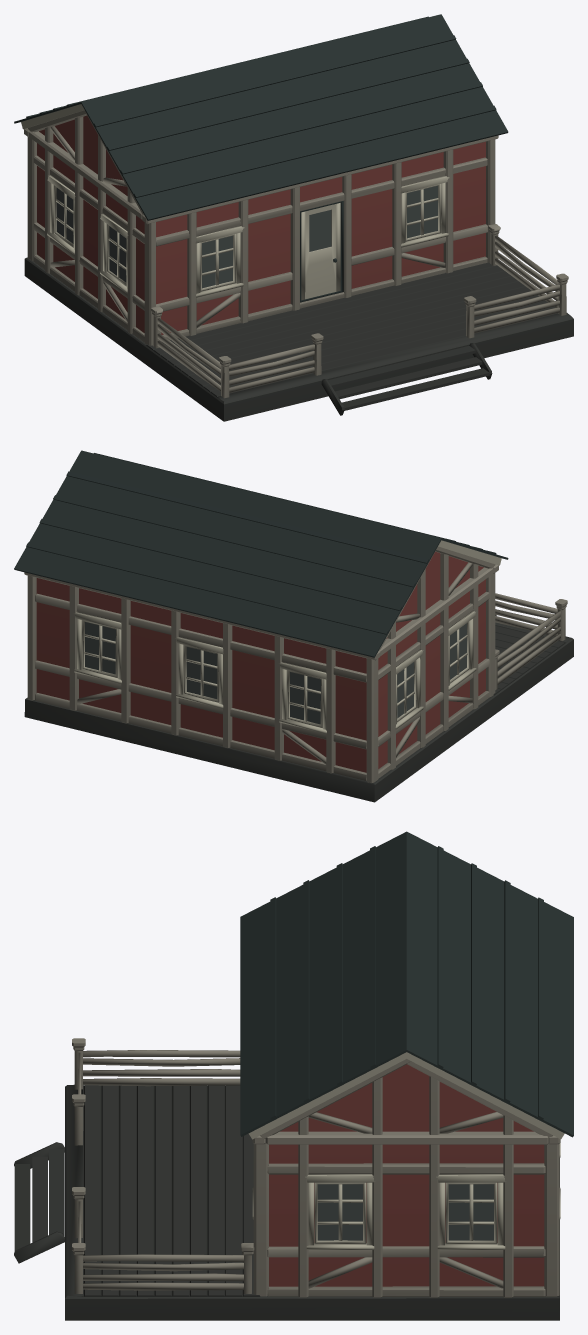
Rendered from farm_house_2.glb.
3 views of the same model, one above another, from view 1: azimuth 30°, elevation 25°; view 2: azimuth 150°, elevation 25°; view 3: azimuth 270°, elevation 25° (orthographic). The views are drawn at different scales.
Visible parts, largest first — view 1: farm_house_2; view 2: farm_house_2; view 3: farm_house_2.
Part boxes in pixels (x1=…): farm_house_2: x1=14, y1=14, x2=573, y2=421; farm_house_2: x1=14, y1=450, x2=573, y2=802; farm_house_2: x1=14, y1=831, x2=573, y2=1320.
Bounding box in the file's own units: 10.64 × 6.34 × 11.53.
1 material, 1 textured.
